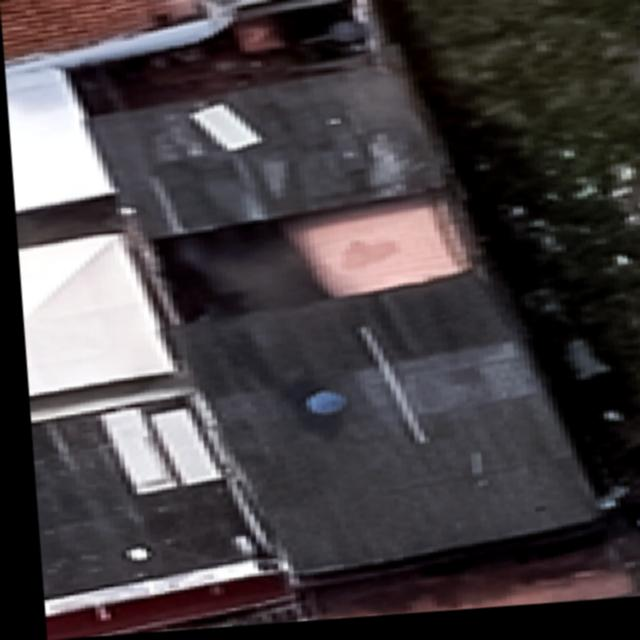Batiment: (18, 237, 167, 393), (280, 206, 466, 302), (4, 69, 109, 209)
